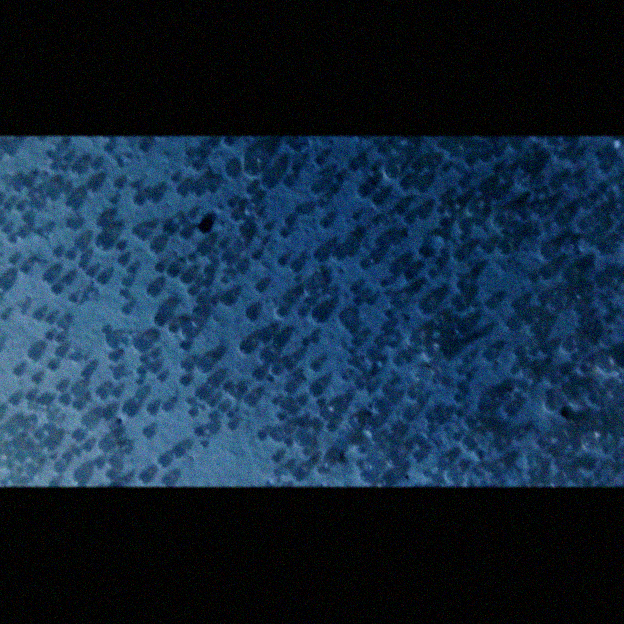GlassBeadSeg: (38, 162, 608, 474), (50, 163, 596, 473), (43, 179, 558, 451), (29, 199, 598, 442), (28, 162, 527, 406), (61, 221, 584, 449), (7, 236, 556, 449), (45, 156, 476, 427), (59, 160, 433, 461), (82, 234, 596, 452), (43, 148, 400, 446), (167, 207, 546, 486), (97, 218, 588, 429), (179, 198, 561, 469), (12, 160, 358, 445), (65, 194, 514, 406), (133, 190, 573, 401), (21, 214, 461, 415), (134, 228, 509, 456), (73, 240, 494, 443), (90, 206, 439, 449), (42, 272, 540, 442), (244, 185, 554, 457), (65, 154, 577, 317), (138, 202, 586, 385), (130, 214, 565, 402), (104, 185, 373, 479), (51, 187, 333, 466), (138, 171, 390, 483), (148, 241, 496, 465), (197, 181, 549, 399), (95, 274, 493, 466), (113, 180, 544, 355), (138, 142, 363, 467), (282, 177, 546, 449), (283, 177, 597, 404), (315, 210, 564, 487), (77, 260, 610, 386), (21, 214, 331, 419), (71, 156, 318, 410), (62, 248, 354, 462), (328, 184, 558, 455), (32, 145, 388, 320), (161, 338, 573, 487), (138, 195, 462, 375), (115, 241, 386, 455), (105, 213, 360, 438), (112, 214, 497, 361), (120, 305, 503, 452), (71, 162, 375, 342), (377, 145, 557, 441), (106, 242, 601, 349), (103, 233, 373, 429), (8, 256, 523, 357), (146, 301, 520, 439), (90, 269, 366, 455), (282, 233, 480, 477), (85, 180, 272, 433), (223, 148, 587, 277), (224, 205, 443, 419), (159, 263, 413, 446), (199, 160, 358, 448), (74, 252, 379, 400), (12, 160, 434, 266), (219, 276, 610, 390), (360, 248, 551, 481), (178, 229, 413, 418), (44, 315, 383, 446), (290, 163, 517, 356), (225, 167, 540, 306), (133, 247, 545, 353), (365, 271, 574, 477), (350, 248, 571, 442), (44, 187, 258, 387), (46, 361, 481, 459), (156, 272, 536, 382), (334, 184, 574, 352), (238, 224, 461, 402), (27, 350, 357, 469), (180, 269, 436, 416), (363, 185, 515, 416), (285, 317, 603, 427), (167, 221, 468, 337), (278, 229, 525, 368), (182, 259, 366, 441), (198, 161, 347, 381), (302, 160, 415, 449), (303, 282, 484, 456), (258, 264, 550, 369), (235, 261, 457, 397), (371, 140, 543, 315), (109, 196, 308, 347), (310, 282, 497, 441), (58, 395, 605, 449), (379, 361, 611, 487), (82, 260, 448, 338), (52, 248, 217, 421), (95, 297, 372, 400), (258, 243, 491, 364), (309, 335, 608, 428), (195, 246, 338, 437), (138, 142, 245, 396), (386, 203, 488, 464), (120, 172, 344, 288), (356, 185, 563, 310), (367, 183, 489, 394), (134, 195, 413, 287), (369, 164, 546, 305), (194, 387, 459, 481), (229, 211, 422, 337), (245, 185, 363, 390), (191, 161, 293, 394), (275, 214, 505, 316), (73, 290, 389, 362), (272, 334, 439, 469), (14, 296, 213, 405), (207, 297, 373, 426), (214, 221, 468, 305), (70, 386, 321, 469), (220, 251, 517, 320), (79, 338, 576, 379), (351, 213, 531, 325), (51, 236, 387, 294), (353, 379, 610, 454), (365, 314, 611, 392), (351, 297, 452, 480), (187, 286, 392, 375), (380, 179, 466, 387), (18, 264, 103, 469), (239, 339, 387, 456), (116, 255, 388, 318), (298, 346, 435, 471), (253, 179, 410, 287), (179, 272, 321, 391), (202, 243, 279, 462), (171, 384, 389, 458), (434, 190, 501, 424), (212, 266, 557, 311), (54, 222, 271, 293), (117, 180, 426, 229), (409, 160, 532, 283), (442, 161, 530, 330), (26, 349, 158, 461), (64, 250, 286, 316), (7, 398, 191, 476), (526, 221, 581, 481), (54, 346, 169, 468), (257, 331, 377, 446), (411, 298, 495, 461), (313, 301, 541, 361), (120, 305, 229, 430), (356, 245, 433, 421), (25, 264, 144, 377), (253, 240, 505, 293), (107, 438, 578, 466), (8, 240, 86, 406), (71, 407, 324, 457), (251, 246, 344, 381), (153, 233, 466, 273), (283, 323, 467, 391), (215, 327, 356, 412), (14, 265, 141, 359), (554, 179, 596, 448), (413, 369, 566, 442), (307, 383, 476, 449), (566, 154, 600, 480), (54, 346, 215, 414), (50, 315, 380, 347), (261, 172, 352, 288), (95, 388, 555, 410), (516, 174, 597, 297), (470, 152, 601, 227), (387, 235, 439, 418), (314, 335, 382, 470), (14, 143, 107, 240), (6, 354, 74, 483), (397, 203, 480, 308), (69, 194, 172, 277), (192, 207, 301, 284), (145, 211, 240, 298), (12, 367, 99, 462), (475, 210, 619, 267), (498, 170, 569, 285), (265, 353, 410, 409), (398, 179, 458, 313), (290, 295, 401, 367), (416, 297, 464, 463), (142, 366, 285, 421), (388, 425, 528, 477), (283, 295, 323, 474), (186, 272, 327, 322), (219, 269, 414, 305), (21, 309, 119, 379), (373, 196, 491, 253), (191, 255, 303, 315), (454, 382, 532, 467), (189, 182, 330, 229), (117, 210, 195, 294), (121, 405, 204, 483), (246, 307, 585, 326), (370, 216, 478, 275), (119, 251, 399, 273), (197, 388, 334, 432), (462, 149, 609, 190), (285, 216, 310, 457), (318, 219, 443, 267), (516, 210, 577, 307), (268, 428, 392, 475), (39, 413, 130, 477), (142, 141, 205, 233), (253, 160, 300, 283), (121, 401, 335, 428), (70, 250, 368, 269), (210, 320, 349, 360), (232, 183, 375, 221), (393, 164, 422, 347), (244, 139, 376, 178), (436, 141, 516, 204), (158, 314, 390, 334), (180, 243, 226, 339), (421, 340, 534, 379), (369, 317, 438, 378), (49, 153, 77, 302), (416, 366, 538, 400), (450, 409, 537, 456), (378, 207, 428, 287), (220, 293, 255, 407), (438, 150, 489, 228), (95, 224, 249, 249), (175, 183, 325, 208), (152, 229, 190, 327), (46, 361, 189, 386), (59, 155, 154, 192), (291, 459, 447, 481), (184, 398, 280, 432), (1, 187, 68, 234), (48, 438, 130, 476), (3, 424, 64, 473), (389, 394, 425, 475), (436, 366, 520, 400), (425, 371, 471, 433), (349, 194, 377, 294), (26, 391, 83, 439), (84, 196, 117, 278), (200, 279, 217, 435), (455, 241, 512, 287), (460, 382, 522, 423), (389, 279, 469, 310), (443, 183, 606, 198), (439, 141, 513, 172), (12, 412, 54, 463), (173, 261, 301, 277), (20, 429, 81, 461), (207, 139, 235, 208), (313, 419, 356, 463), (4, 312, 63, 344), (458, 297, 470, 450), (12, 153, 57, 193), (155, 265, 213, 296), (180, 218, 227, 255), (225, 371, 294, 396), (108, 340, 190, 361), (551, 427, 617, 452), (417, 245, 433, 347), (72, 415, 95, 485), (142, 421, 235, 438), (276, 257, 286, 415), (348, 394, 392, 427), (408, 248, 465, 273), (61, 374, 119, 398), (195, 350, 221, 403), (129, 190, 160, 234), (1, 191, 34, 232), (43, 293, 71, 341), (95, 218, 174, 235), (208, 135, 235, 183), (187, 376, 219, 416), (2, 144, 31, 188), (574, 452, 619, 479), (566, 152, 599, 187), (289, 351, 304, 428), (413, 317, 441, 356), (186, 159, 216, 194), (10, 407, 50, 433), (44, 406, 113, 421), (409, 207, 421, 293), (384, 164, 404, 215), (572, 275, 597, 314), (346, 346, 443, 356), (414, 366, 438, 406), (25, 448, 58, 475), (220, 375, 272, 392), (186, 253, 203, 304), (287, 437, 316, 465), (401, 346, 448, 363), (181, 140, 206, 168), (539, 456, 572, 477), (282, 417, 304, 447), (62, 155, 99, 172), (118, 265, 136, 298), (551, 283, 586, 299), (163, 360, 192, 378), (35, 374, 62, 393), (583, 235, 608, 255), (269, 365, 299, 381), (589, 182, 601, 221), (341, 394, 356, 425), (91, 143, 112, 163), (207, 255, 228, 275), (531, 311, 543, 346), (25, 178, 42, 199), (276, 351, 294, 370), (23, 374, 35, 401), (0, 310, 25, 322), (352, 351, 369, 368), (178, 210, 194, 227), (89, 406, 108, 420), (130, 227, 147, 241), (603, 191, 615, 210), (138, 349, 153, 364), (97, 438, 111, 453), (366, 351, 374, 377), (503, 317, 518, 330), (487, 465, 501, 477), (592, 275, 604, 288), (308, 361, 319, 372), (133, 195, 143, 206), (576, 221, 586, 232), (33, 430, 43, 440), (600, 365, 611, 373), (365, 354, 375, 362), (455, 385, 464, 392), (568, 478, 577, 483), (532, 458, 539, 464)
